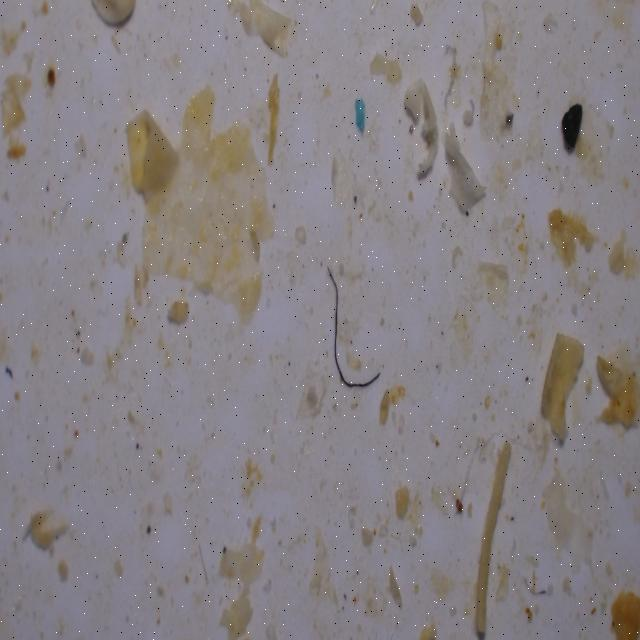fibers: (294, 265, 383, 396), (197, 544, 210, 585)
